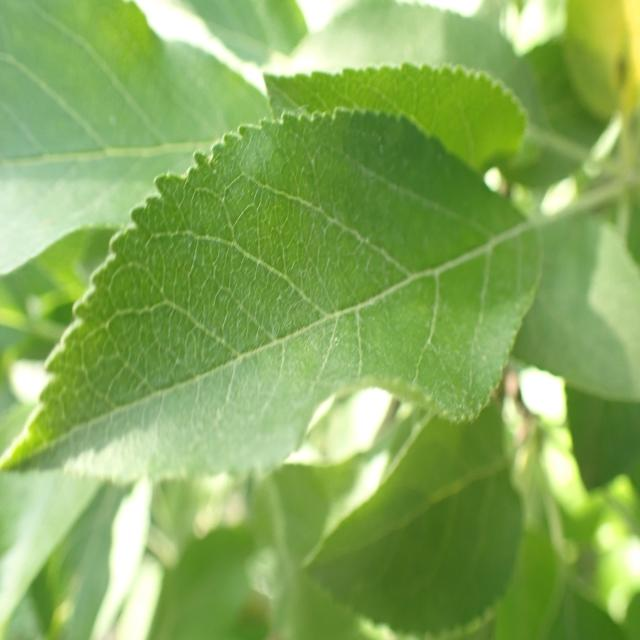healthy: (0, 106, 544, 485), (0, 0, 272, 277), (508, 212, 640, 403)
